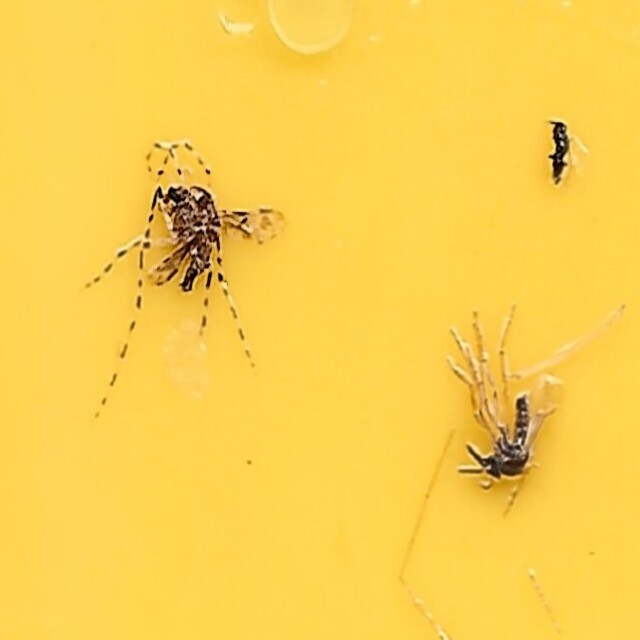Brachycera: (452, 318, 540, 502)
Nematocera: (100, 138, 288, 401)
